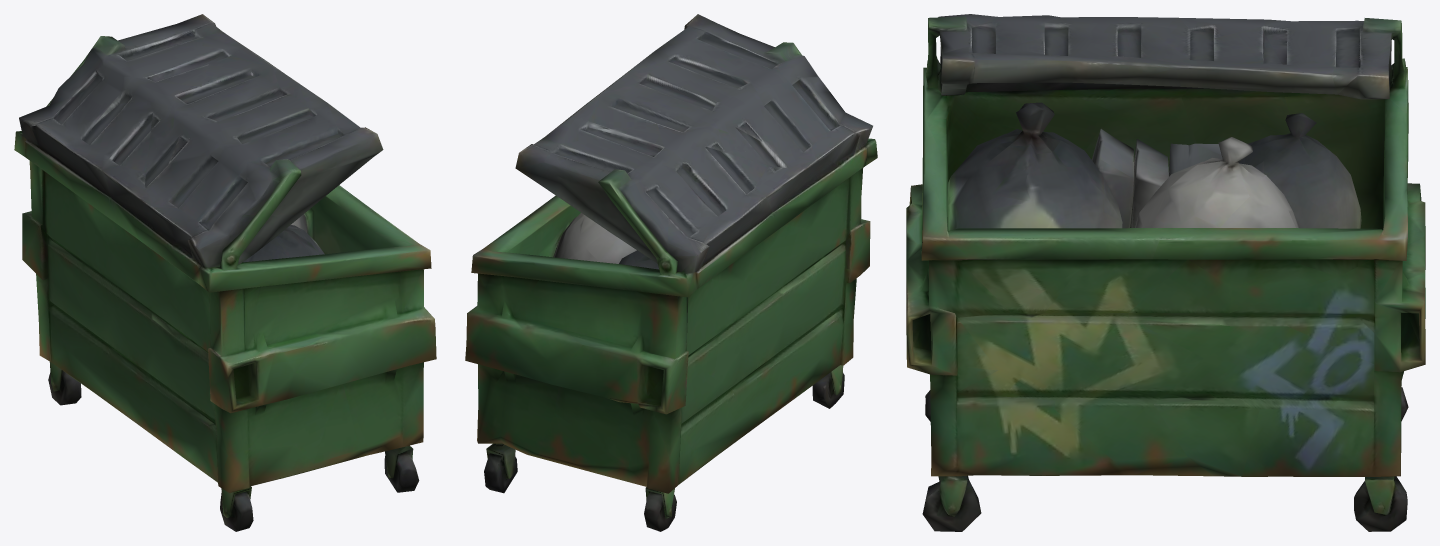
File: dumpster.glb
3 renders of one model, left to right at view 1: azimuth 30°, elevation 25°; view 2: azimuth 150°, elevation 25°; view 3: azimuth 270°, elevation 25°, orthographic. The views are drawn at different scales.
Visible parts, largest first — view 1: tripo_node_2f6ed3e2-482e-4903-9506-31e2845cc76c; view 2: tripo_node_2f6ed3e2-482e-4903-9506-31e2845cc76c; view 3: tripo_node_2f6ed3e2-482e-4903-9506-31e2845cc76c.
Boxes of the visible parts, bbox=[...] form: tripo_node_2f6ed3e2-482e-4903-9506-31e2845cc76c: bbox=[14, 14, 436, 531]; tripo_node_2f6ed3e2-482e-4903-9506-31e2845cc76c: bbox=[465, 14, 877, 531]; tripo_node_2f6ed3e2-482e-4903-9506-31e2845cc76c: bbox=[906, 14, 1425, 531].
Size of the model in its own units: 0.6226 by 0.9634 by 1.
1 material, 1 textured.
